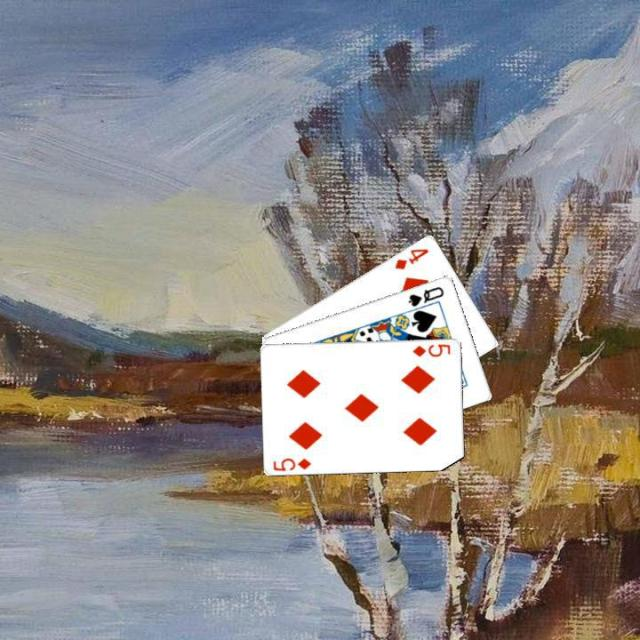4D: (391, 245, 430, 271)
5D: (269, 454, 313, 472), (409, 340, 452, 358)
QS: (404, 282, 446, 308)
